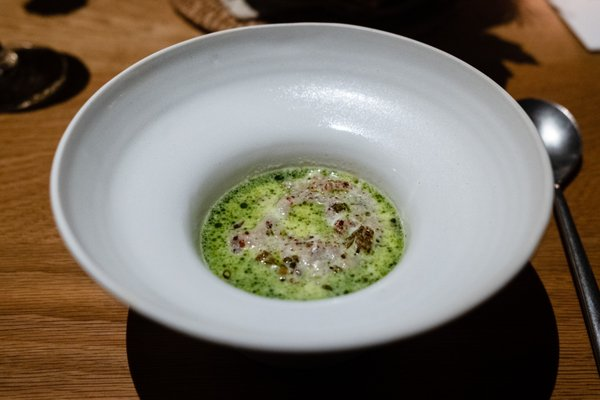salad: (518, 96, 600, 377)
sushi: (51, 19, 547, 357)
